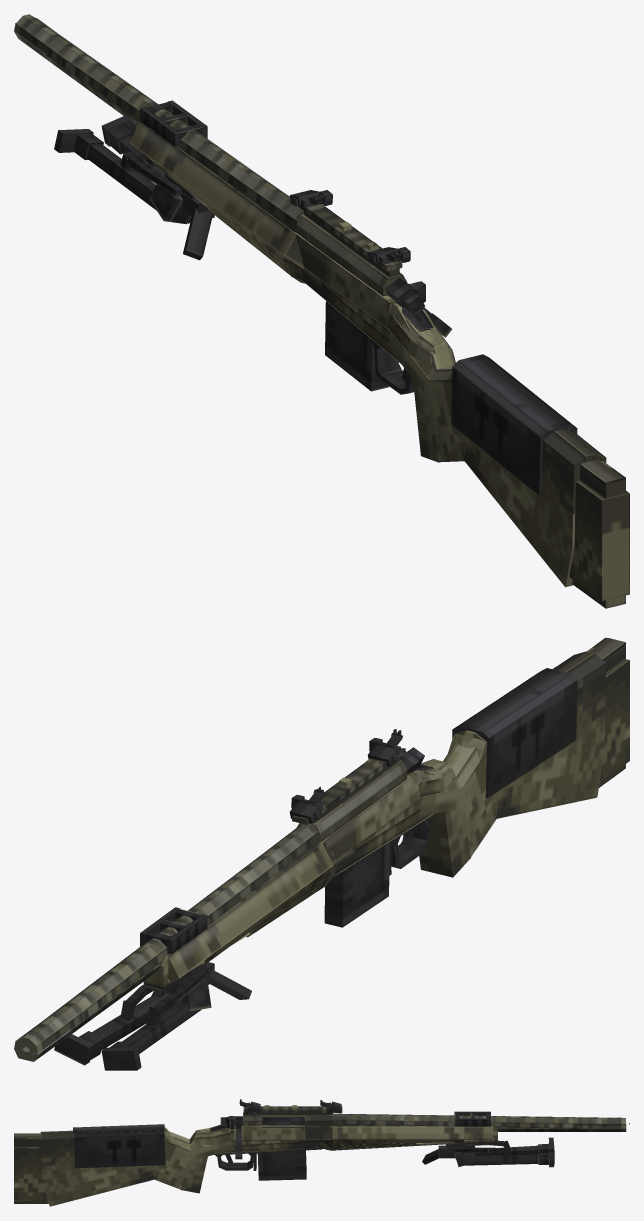
3 views of the same model, one above another, from view 1: azimuth 30°, elevation 25°; view 2: azimuth 150°, elevation 25°; view 3: azimuth 270°, elevation 25° (orthographic). The views are drawn at different scales.
Visible parts, largest first — view 1: gun, magazine, ironsights; view 2: gun, magazine, ironsights; view 3: gun, magazine, bolt1, ironsights, bolt2.
Boxes of the visible parts, left/top/right/bottom form: gun: left=14, top=14, right=629, bottom=608; magazine: left=325, top=301, right=389, bottom=391; ironsights: left=289, top=190, right=410, bottom=265; gun: left=14, top=637, right=629, bottom=1070; magazine: left=324, top=843, right=389, bottom=927; ironsights: left=289, top=729, right=402, bottom=823; gun: left=14, top=1106, right=626, bottom=1206; magazine: left=257, top=1150, right=306, bottom=1180; bolt1: left=220, top=1116, right=304, bottom=1128; ironsights: left=239, top=1099, right=341, bottom=1113; bolt2: left=234, top=1116, right=242, bottom=1159.
Size of the model in its own units: 71.07 by 147 by 800.
